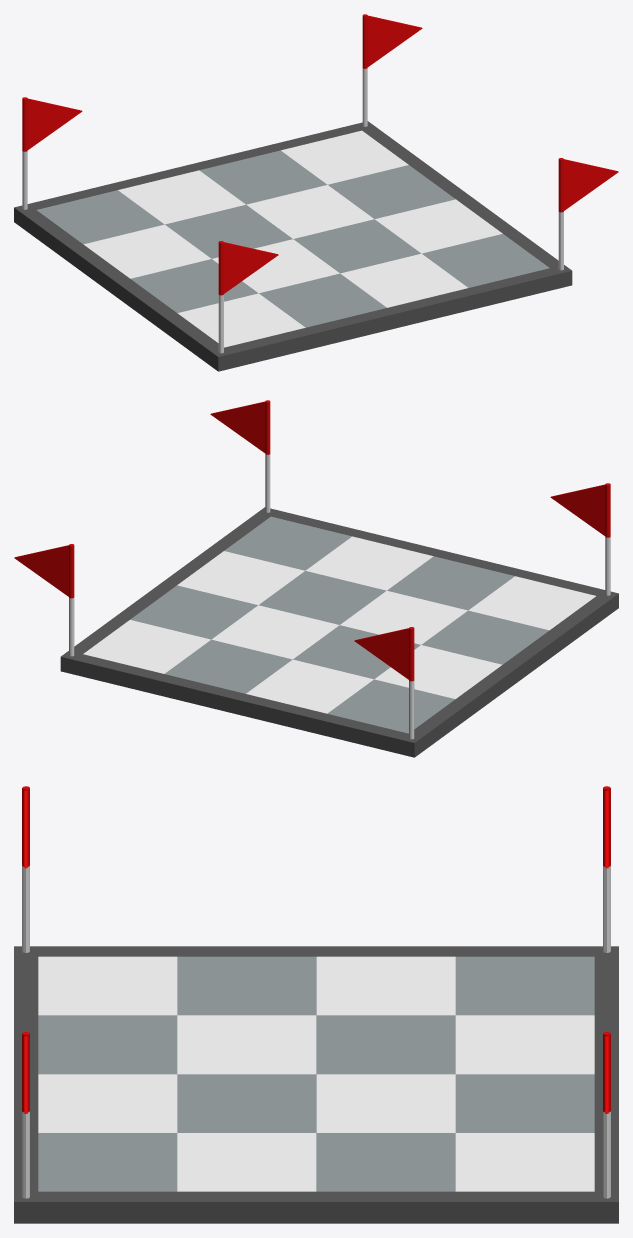
The model's file is Check Point.fbx.
The picture shows the model from 3 angles, top to bottom: view 1: azimuth 30°, elevation 25°; view 2: azimuth 150°, elevation 25°; view 3: azimuth 270°, elevation 25°; orthographic projection. The views are drawn at different scales.
Parts seen in each view (by area): view 1: Base, Co2, Co3, Co4, Co1; view 2: Base, Co4, Co1, Co2, Co3; view 3: Base, Co4, Co1, Co2, Co3.
Boxes of the visible parts, x1,y1,x2,y2 form: Base: (14,121,572,371); Co2: (558,158,618,270); Co3: (218,241,278,353); Co4: (362,14,422,126); Co1: (22,97,82,209); Base: (60,507,618,757); Co4: (14,544,74,656); Co1: (354,627,414,739); Co2: (210,400,270,512); Co3: (550,483,610,595); Base: (14,946,618,1223); Co4: (603,1032,610,1198); Co1: (603,786,610,952); Co2: (22,1032,29,1198); Co3: (22,786,29,952).
Size of the model in its own units: 4 by 1.18 by 3.5.
